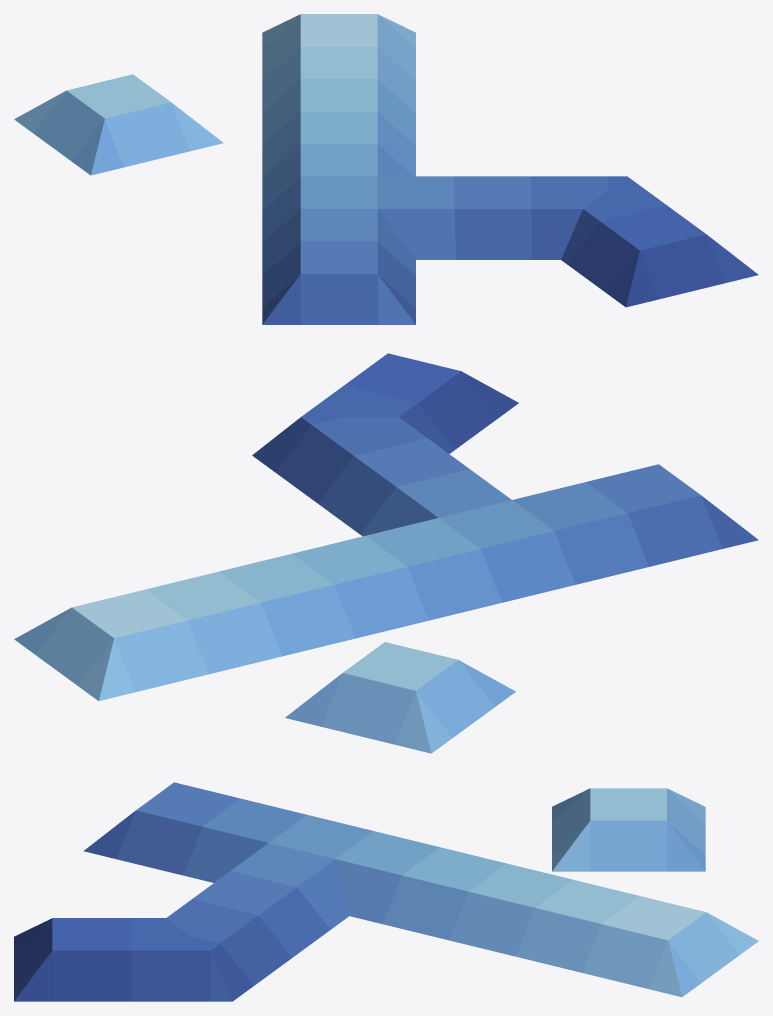
File: rune_style_o.obj
3 views of the same model, one above another, from view 1: azimuth 30°, elevation 25°; view 2: azimuth 150°, elevation 25°; view 3: azimuth 270°, elevation 25° (orthographic). The views are drawn at different scales.
Parts seen in each view (by area): view 1: RUNE_STYLE_O_Plane.034; view 2: RUNE_STYLE_O_Plane.034; view 3: RUNE_STYLE_O_Plane.034.
Boxes of the visible parts, <box> form: RUNE_STYLE_O_Plane.034: <box>14,14,758,324</box>; RUNE_STYLE_O_Plane.034: <box>14,353,758,753</box>; RUNE_STYLE_O_Plane.034: <box>14,782,758,1001</box>.
Bounding box in the file's own units: 0.3979 × 0.0312 × 0.606.
